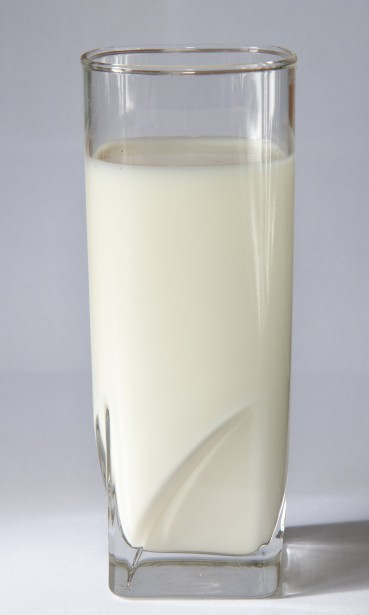glass of milk: (96, 86, 291, 576)
